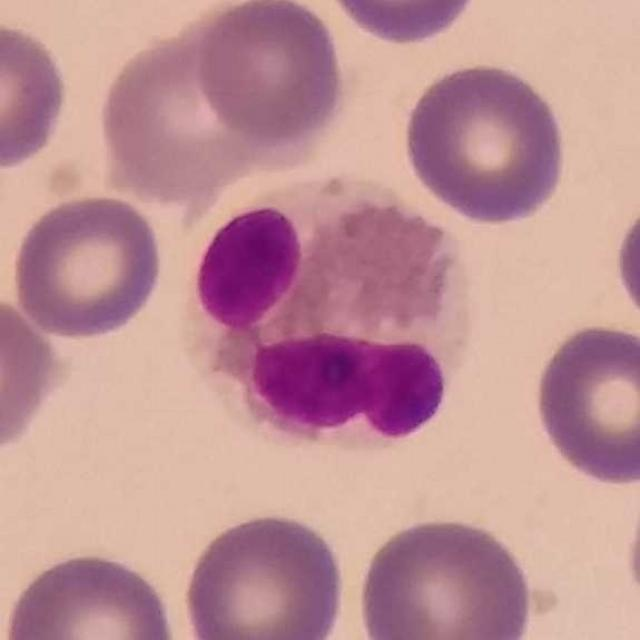Eosinophil: (193, 169, 488, 444)
RBC: (96, 19, 285, 204), (399, 57, 570, 228), (189, 0, 350, 156), (7, 189, 168, 342), (354, 511, 538, 639), (179, 506, 350, 640), (528, 319, 640, 489), (0, 545, 185, 640), (0, 12, 73, 175), (0, 292, 66, 463), (320, 0, 483, 48), (611, 187, 640, 341), (620, 455, 640, 630)
